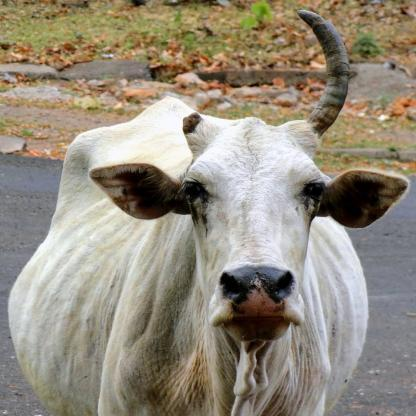cow: (20, 0, 394, 413)
